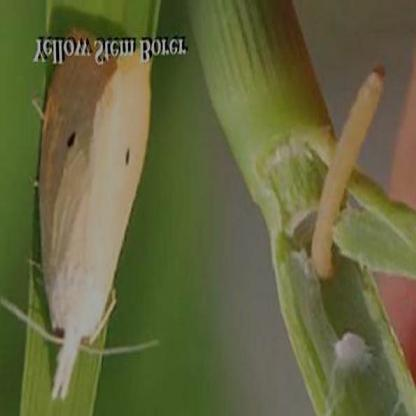stem-borer: (18, 73, 155, 403)
